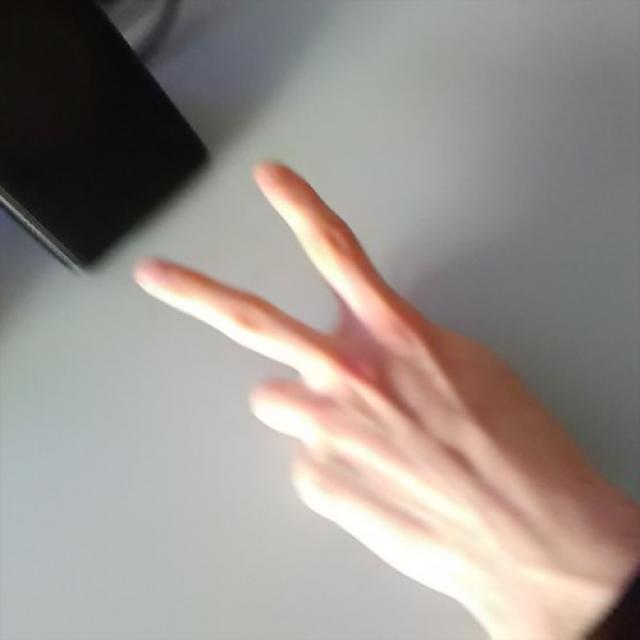scissors: (135, 162, 566, 554)
